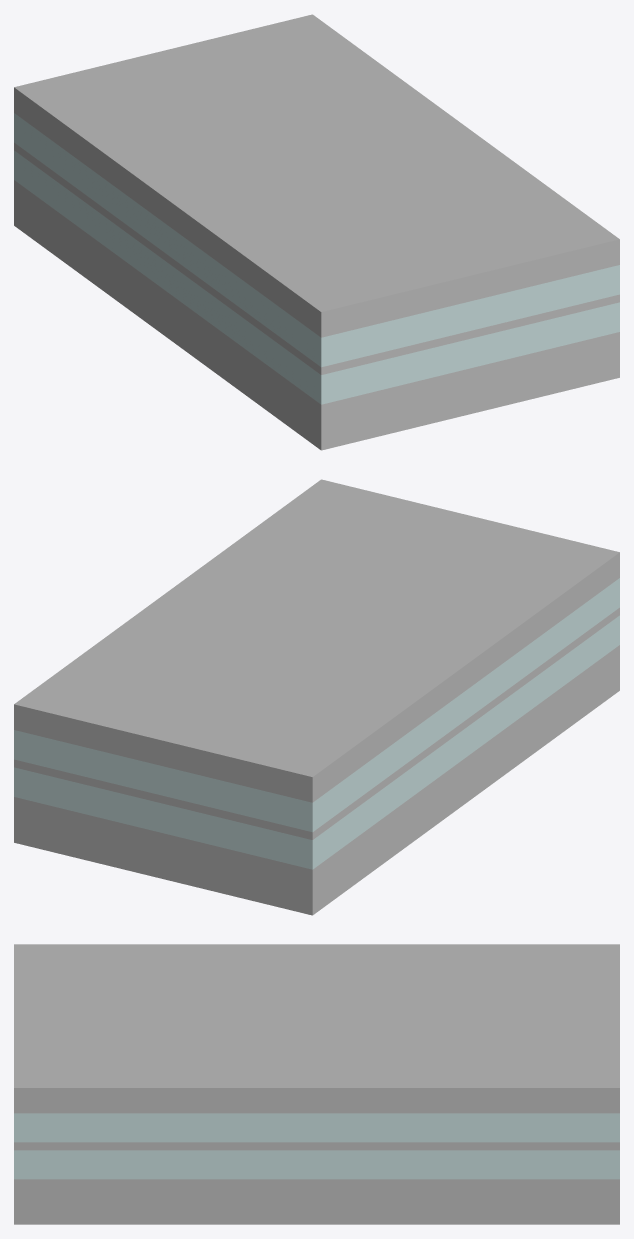
Rendered from officebuilding.fbx.
The picture shows the model from 3 angles, top to bottom: view 1: azimuth 30°, elevation 25°; view 2: azimuth 150°, elevation 25°; view 3: azimuth 270°, elevation 25°; orthographic projection.
Parts seen in each view (by area): view 1: officebuilding; view 2: officebuilding; view 3: officebuilding.
Part boxes in pixels (x1=…): officebuilding: x1=14, y1=14, x2=619, y2=450; officebuilding: x1=14, y1=479, x2=619, y2=915; officebuilding: x1=14, y1=944, x2=619, y2=1224.
Size of the model in its own units: 11628 by 5148 by 20723.
